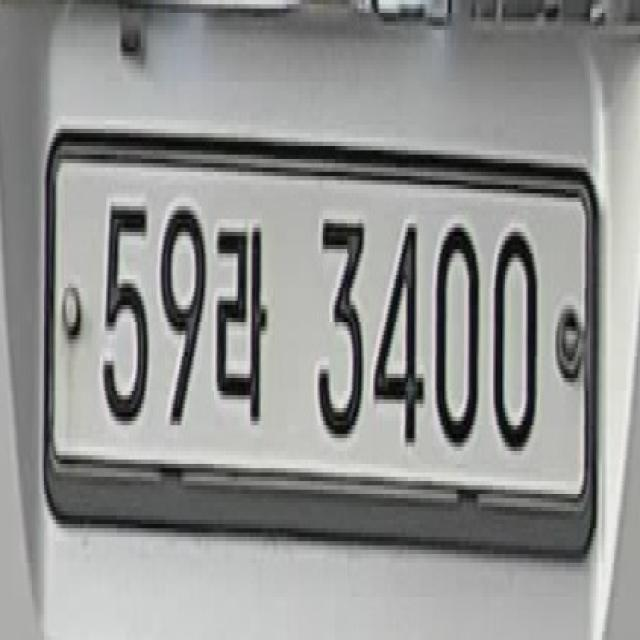plat: (43, 124, 599, 555)
